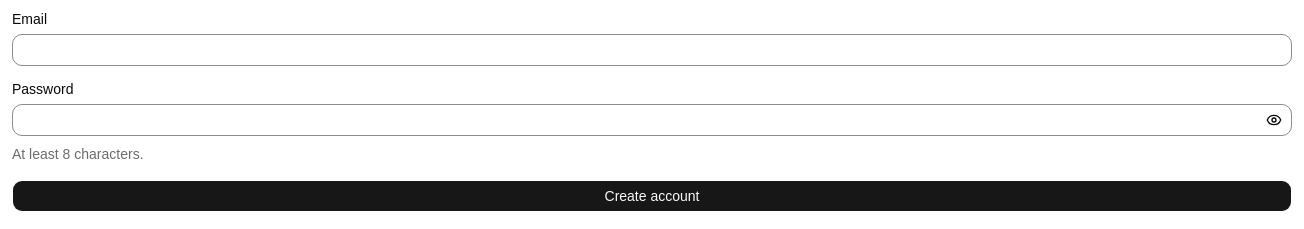
Test: AuthForm › when the server refuses › replaces the password hint with the server message instead of showing both
Step 1. Type "ada@example.com" into the field labelled "Email" → (652, 50), box [12, 34, 1292, 66]
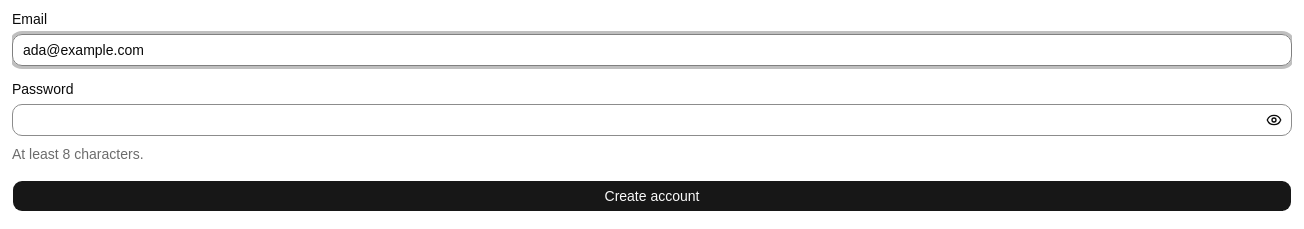
Step 2. Type "correct horse battery" into the password field labelled "Password" → (652, 120), box [12, 104, 1292, 136]
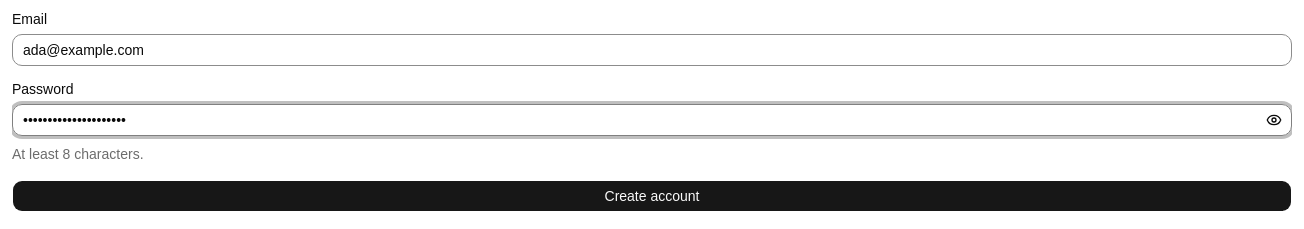
Step 3. Click the button "Create account" → (652, 196), box [12, 180, 1292, 212]
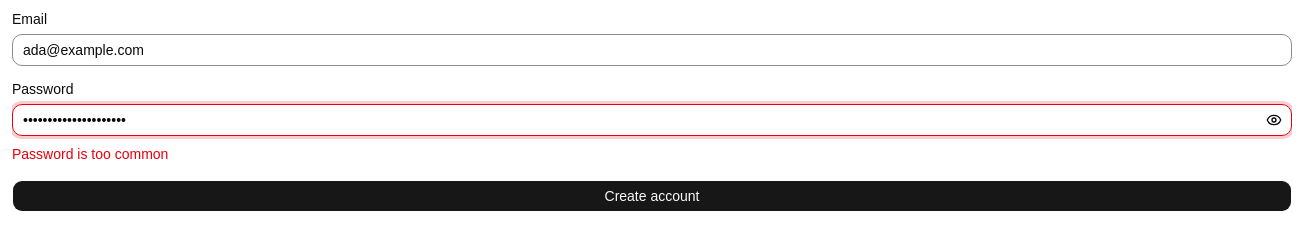
Expected: the text "Password is too common" is shown, [12, 146, 168, 162]
Expected: the text "At least 8 characters." is gone
